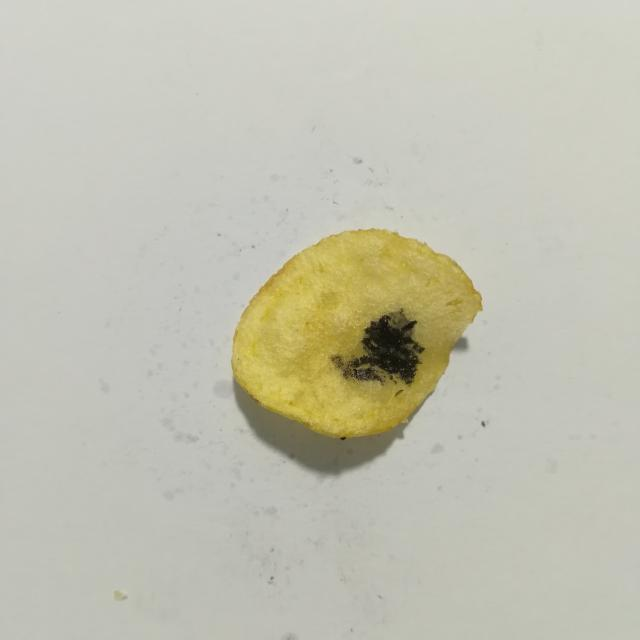chip: (232, 229, 482, 437)
damaged: (351, 310, 424, 385), (343, 367, 382, 380)
semi-damaged: (331, 355, 344, 368)
